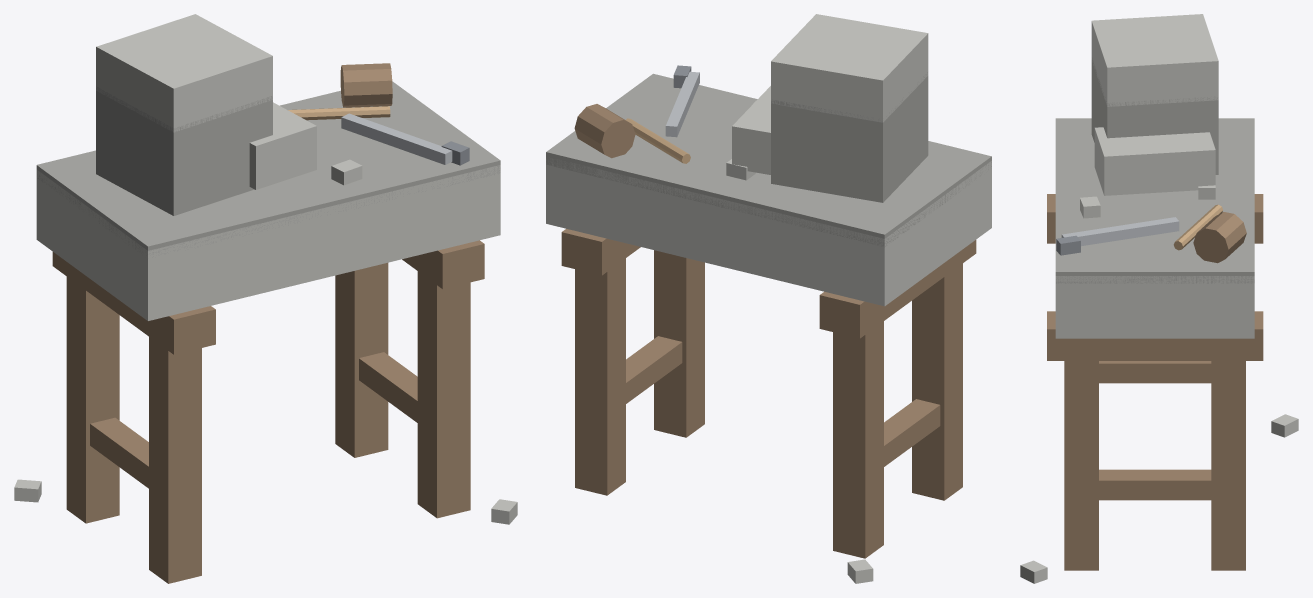
The model's file is furniture_mason_bench.glb.
3 views of the same model, side by side, from view 1: azimuth 30°, elevation 25°; view 2: azimuth 150°, elevation 25°; view 3: azimuth 270°, elevation 25° (orthographic). The views are drawn at different scales.
Parts seen in each view (by area): view 1: wood_dark, stone, stone_dark, metal, wood; view 2: wood_dark, stone, stone_dark, metal, wood; view 3: stone, wood_dark, stone_dark, metal, wood, metal_dark.
Part boxes in pixels (bbox=[...]): wood_dark: bbox=[52, 63, 484, 583]; stone: bbox=[14, 14, 517, 524]; stone_dark: bbox=[36, 81, 500, 257]; metal: bbox=[341, 113, 452, 164]; wood: bbox=[288, 106, 390, 120]; wood_dark: bbox=[561, 104, 976, 558]; stone: bbox=[546, 14, 991, 583]; stone_dark: bbox=[546, 72, 991, 247]; metal: bbox=[665, 71, 699, 137]; wood: bbox=[626, 118, 690, 163]; stone: bbox=[1020, 14, 1298, 583]; wood_dark: bbox=[1047, 194, 1263, 570]; stone_dark: bbox=[1055, 58, 1254, 283]; metal: bbox=[1061, 217, 1179, 246]; wood: bbox=[1173, 204, 1222, 250]; metal_dark: bbox=[1056, 235, 1080, 255].
Size of the model in its own units: 0.864 by 1.09 by 0.6428.
